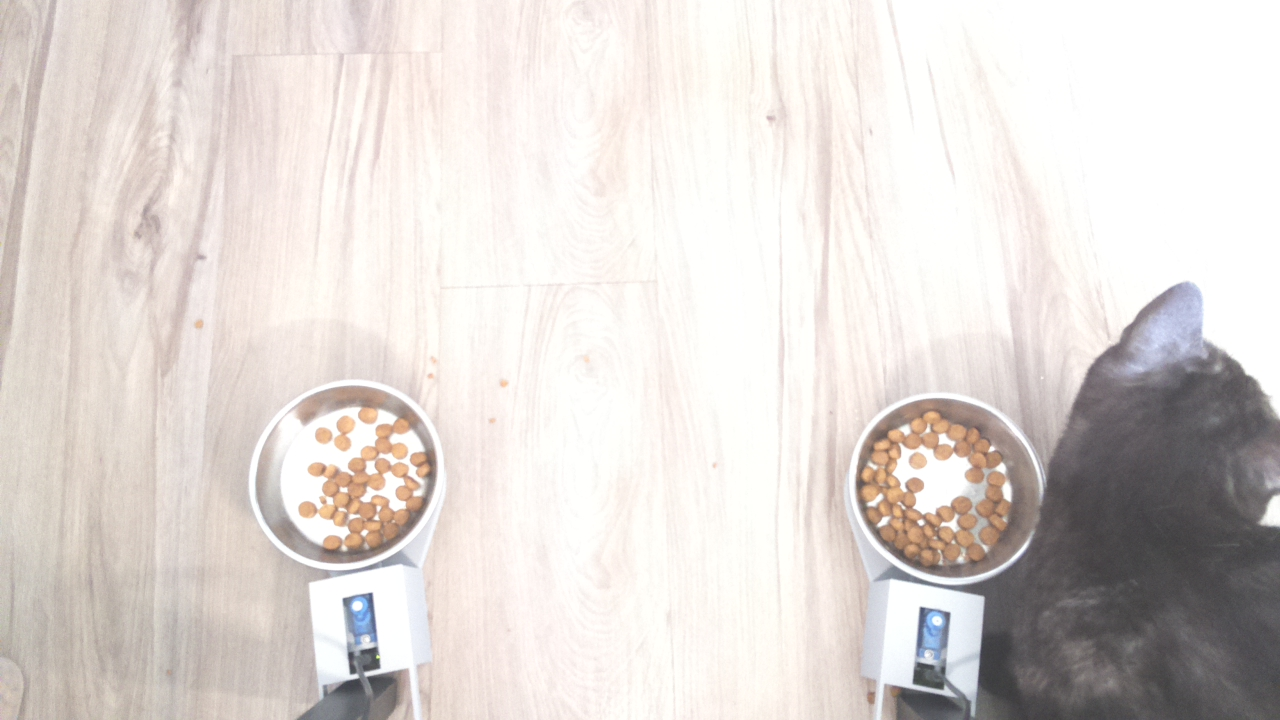open_bowl: (247, 376, 447, 583), (849, 386, 1054, 586)
saki: (1042, 278, 1280, 529)
